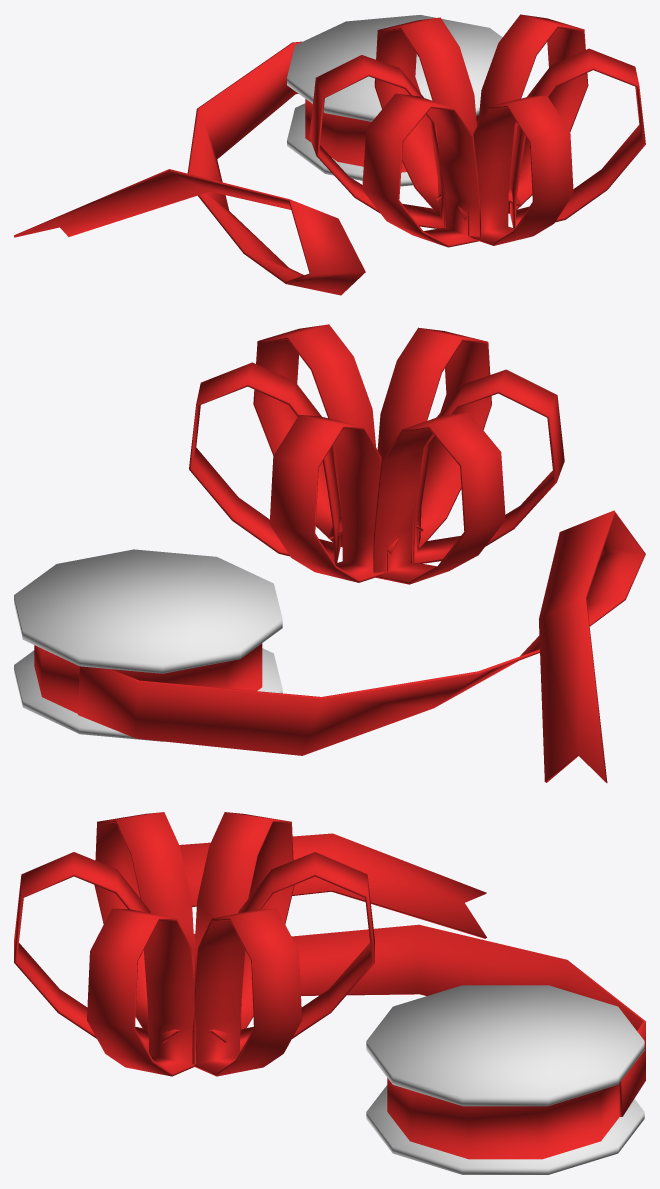
The model's file is ribbon08270301.fbx.
3 views of the same model, one above another, from view 1: azimuth 30°, elevation 25°; view 2: azimuth 150°, elevation 25°; view 3: azimuth 270°, elevation 25° (orthographic). The views are drawn at different scales.
Visible parts, largest first — view 1: 平面; view 2: 平面; view 3: 平面.
Boxes of the visible parts, x1=… form: 平面: x1=14, y1=14, x2=645, y2=295; 平面: x1=14, y1=324, x2=645, y2=782; 平面: x1=14, y1=812, x2=645, y2=1174.
Bounding box in the file's own units: 2.2 × 0.846 × 2.12.
